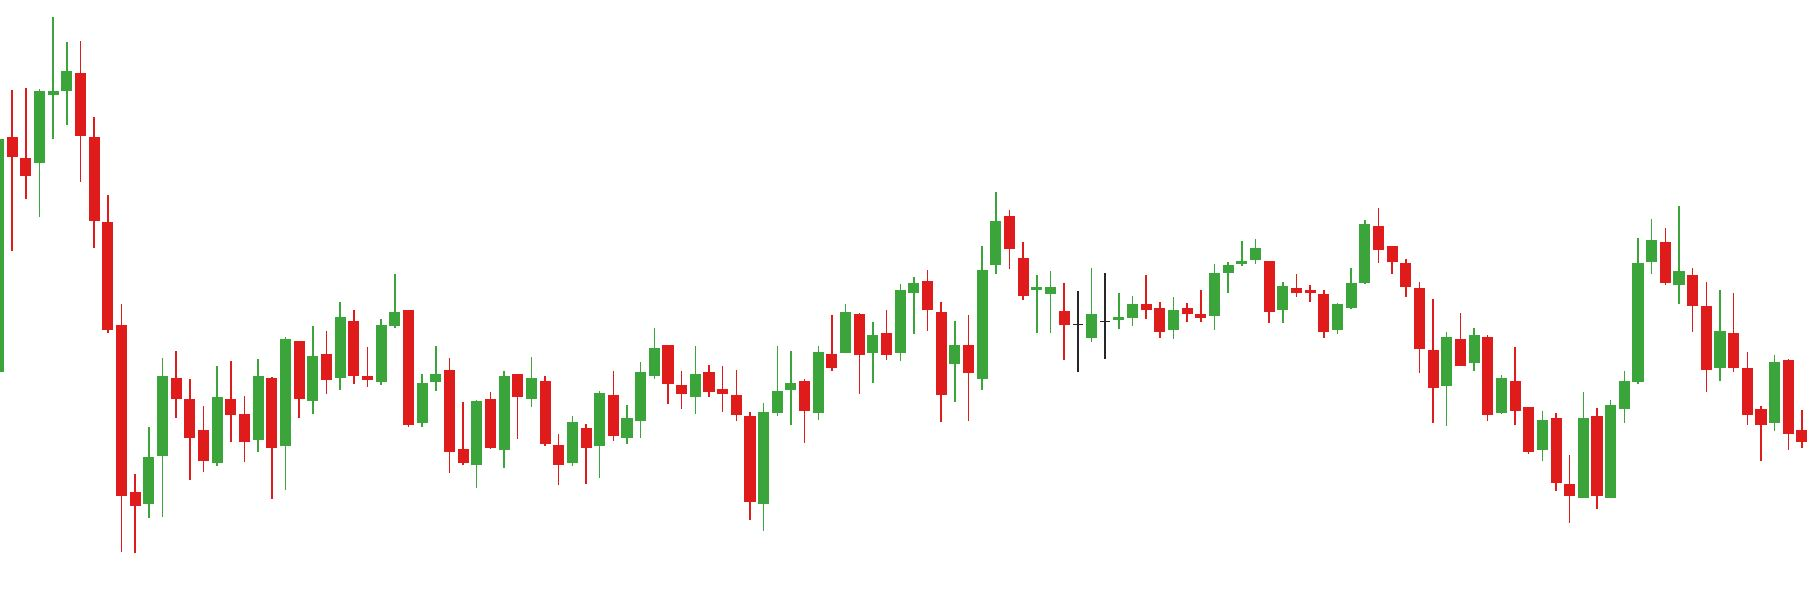buy: (577, 396, 771, 535), (851, 325, 960, 425)
sell: (1234, 208, 1388, 297)
